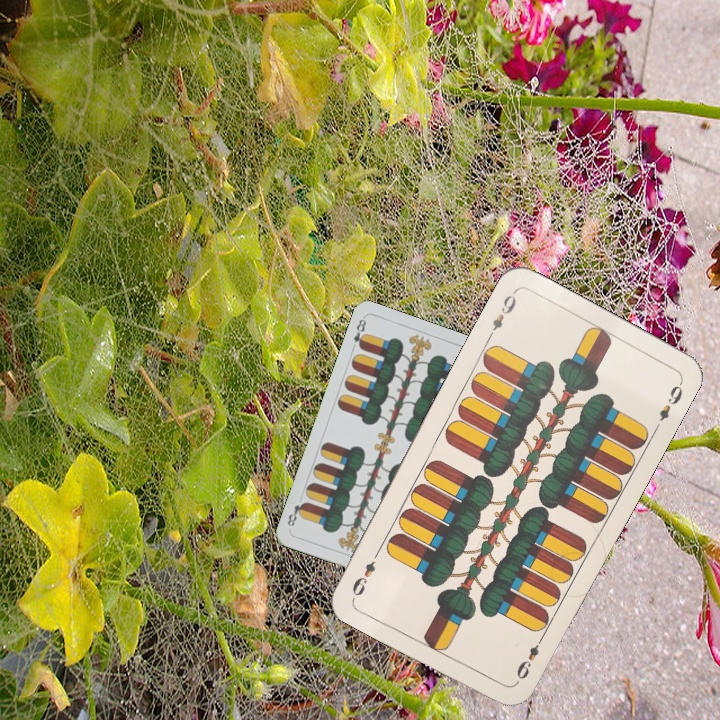E8: (349, 315, 369, 351)
E9: (484, 287, 519, 342), (512, 632, 546, 687)
